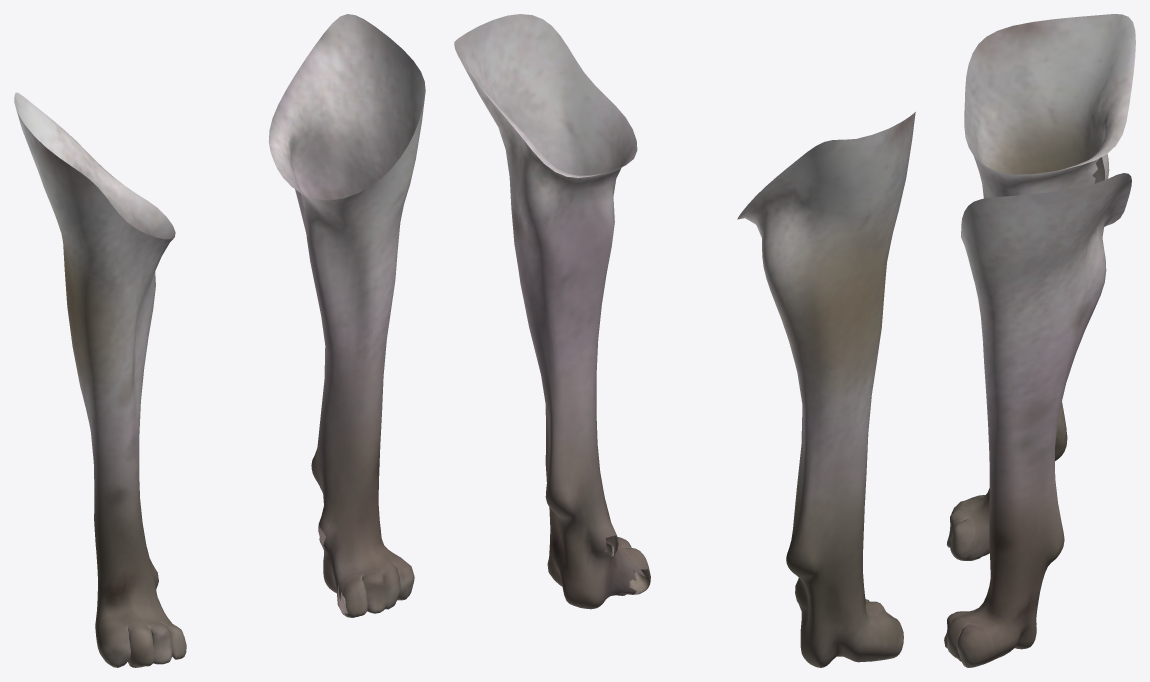
The model's file is patasade.obj.
The picture shows the model from 3 angles, left to right: view 1: azimuth 30°, elevation 25°; view 2: azimuth 150°, elevation 25°; view 3: azimuth 270°, elevation 25°; orthographic projection. The views are drawn at different scales.
Visible parts, largest first — view 1: polySurface24 polySurface19 polySurface13 polySurface7 dog:dog, polySurface13 polySurface7 dog:dog polySurface18; view 2: polySurface24 polySurface19 polySurface13 polySurface7 dog:dog, polySurface13 polySurface7 dog:dog polySurface18; view 3: polySurface24 polySurface19 polySurface13 polySurface7 dog:dog, polySurface13 polySurface7 dog:dog polySurface18.
Boxes of the visible parts, x1,y1,x2,y2 form: polySurface24 polySurface19 polySurface13 polySurface7 dog:dog: (268,14,425,617); polySurface13 polySurface7 dog:dog polySurface18: (14,92,186,667); polySurface24 polySurface19 polySurface13 polySurface7 dog:dog: (454,14,650,609); polySurface13 polySurface7 dog:dog polySurface18: (737,112,915,667); polySurface24 polySurface19 polySurface13 polySurface7 dog:dog: (944,173,1131,667); polySurface13 polySurface7 dog:dog polySurface18: (947,14,1135,560).
Size of the model in its own units: 0.7423 by 1.01 by 0.3475.
Materials: 1 (1 with a texture image).
